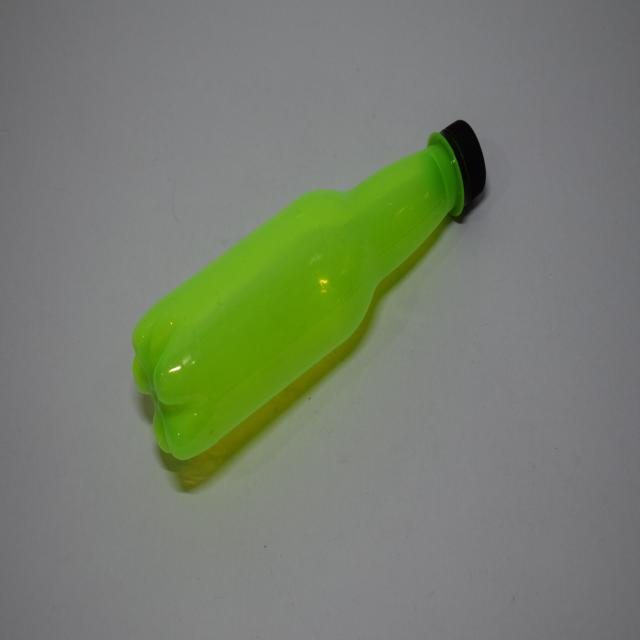empty: (133, 134, 466, 459)
